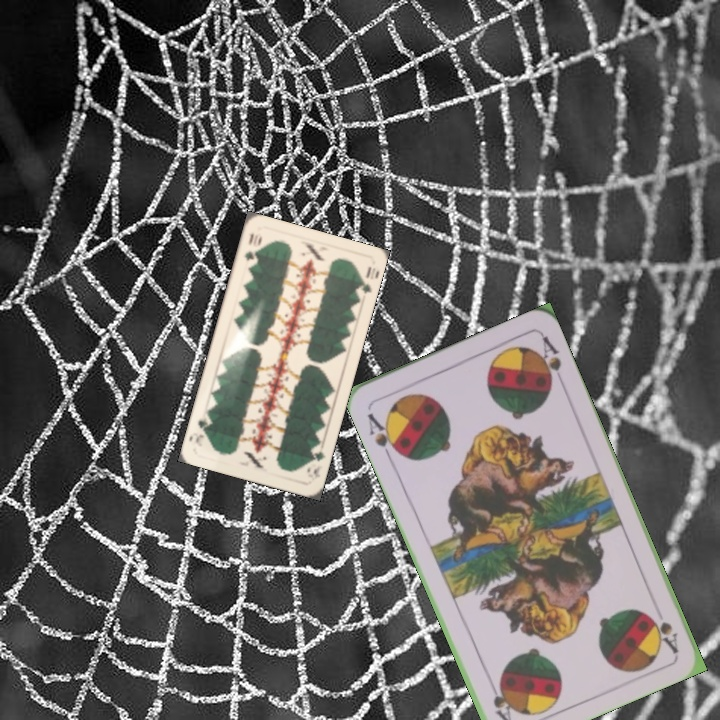G10: (306, 441, 328, 480), (240, 229, 264, 263)
SA: (363, 409, 404, 462), (646, 610, 681, 656)
